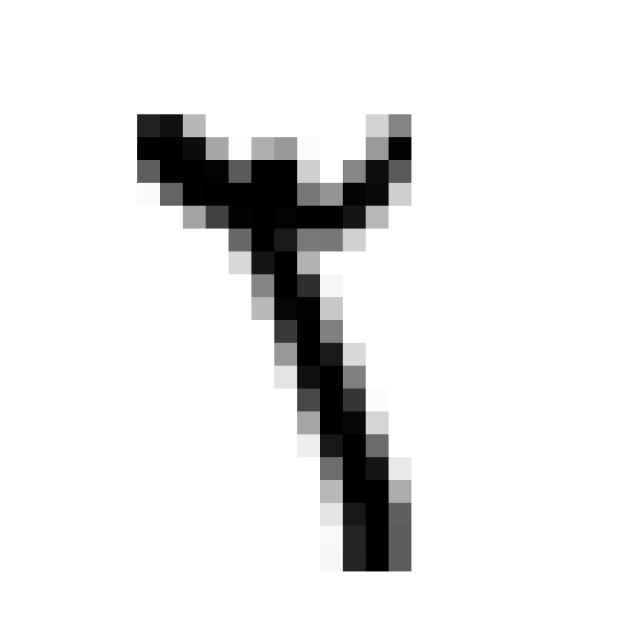3 -three-: (110, 82, 451, 596)
